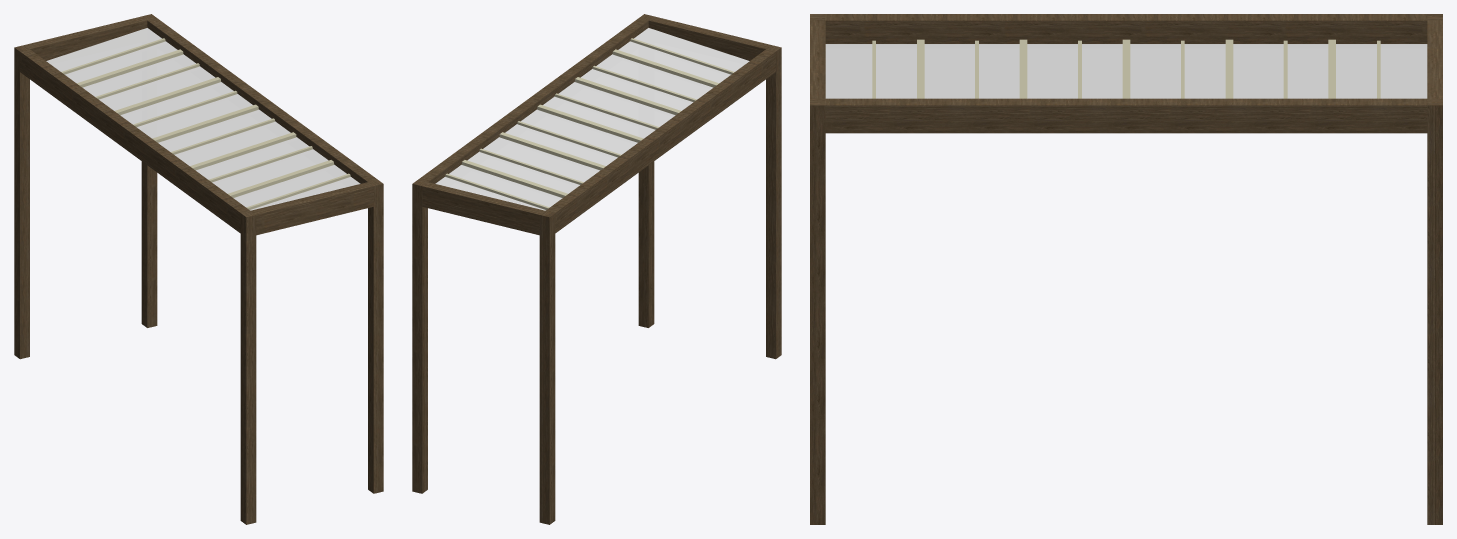
File: hyr-single_h30-w13-l40_brownebony.fbx
3 renders of one model, left to right at view 1: azimuth 30°, elevation 25°; view 2: azimuth 150°, elevation 25°; view 3: azimuth 270°, elevation 25°, orthographic. The views are drawn at different scales.
Parts seen in each view (by area): view 1: hyr-single_h30-w13-l40_brownebony; view 2: hyr-single_h30-w13-l40_brownebony; view 3: hyr-single_h30-w13-l40_brownebony.
Part boxes in pixels (box(x1,y1,x2,y2)): hyr-single_h30-w13-l40_brownebony: box(14, 14, 383, 524); hyr-single_h30-w13-l40_brownebony: box(412, 14, 781, 524); hyr-single_h30-w13-l40_brownebony: box(810, 14, 1442, 524).
Bounding box in the file's own units: 140 × 300 × 410.
3 materials, 2 textured.
